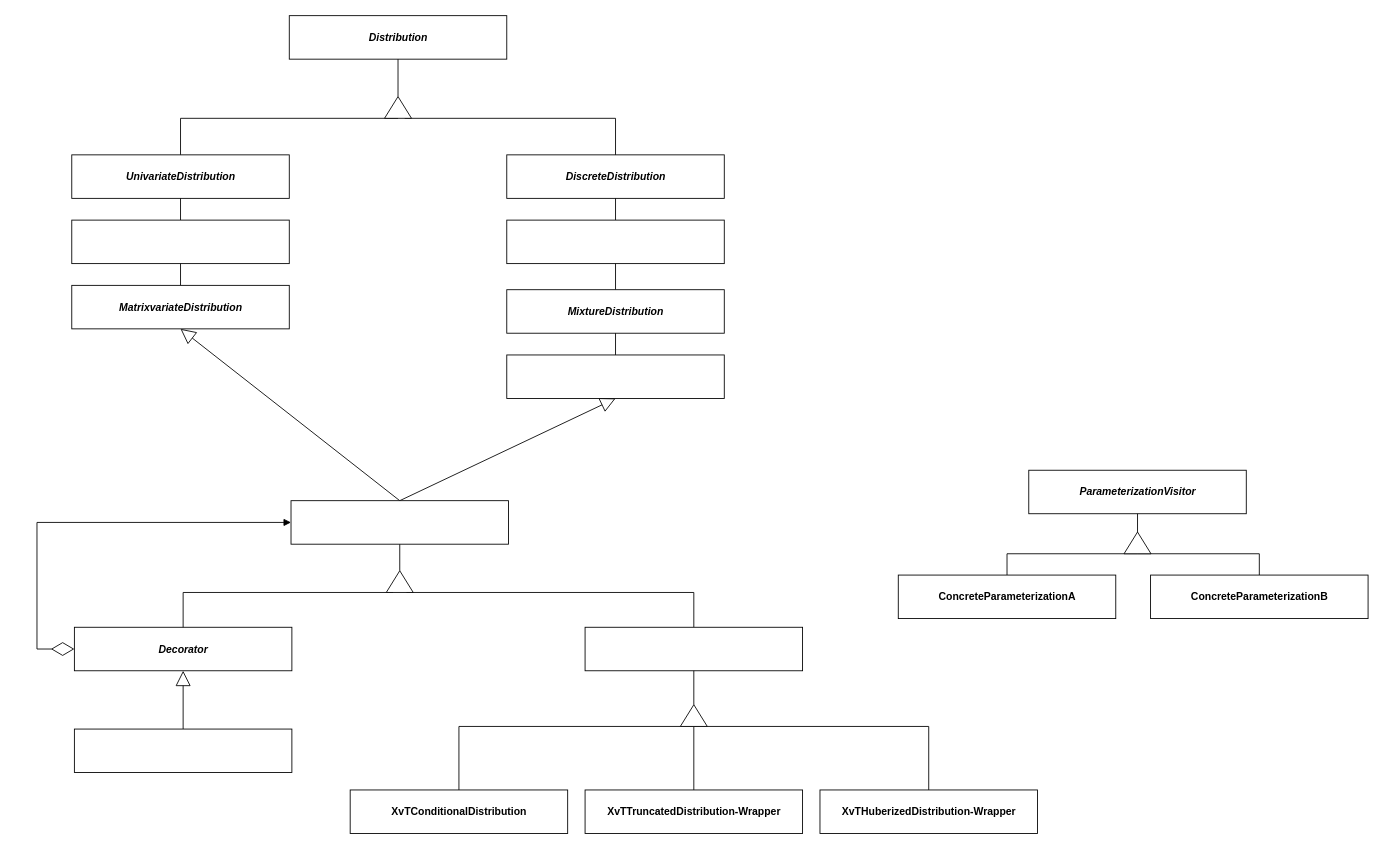
This 1383x848 diagram has some shape labels left out. The centre of each missing label's shape, as x and y in pixels:
ConcreteXvariateTypeDistribution: the point at 693,648
ContinuousDistribution: the point at 615,241
ExoticsDecorator: the point at 183,750
LebDecDistribution: the point at 615,376
MultivariateDistribution: the point at 180,241
XvariateTypeDistribution: the point at 399,522
